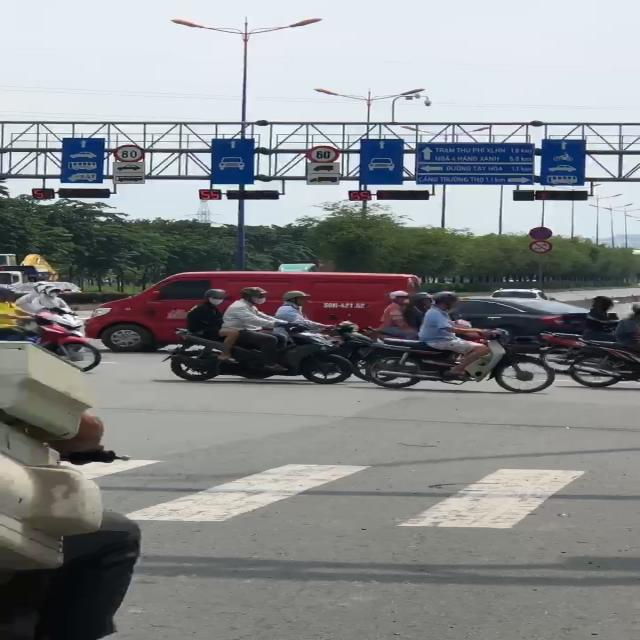Bien bao toc do toi da cho phep: (303, 144, 342, 164), (109, 144, 148, 162)
